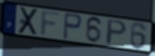6: (85, 16, 105, 44), (130, 21, 148, 51)
F: (39, 10, 63, 38)
P: (104, 19, 128, 46), (62, 12, 83, 41)
X: (17, 7, 40, 37)
